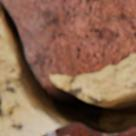brick: (1, 0, 135, 78), (0, 89, 3, 103)
broken_brick: (45, 123, 135, 135)
crack: (0, 0, 135, 134)
